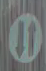Two way: (4, 6, 41, 57)
